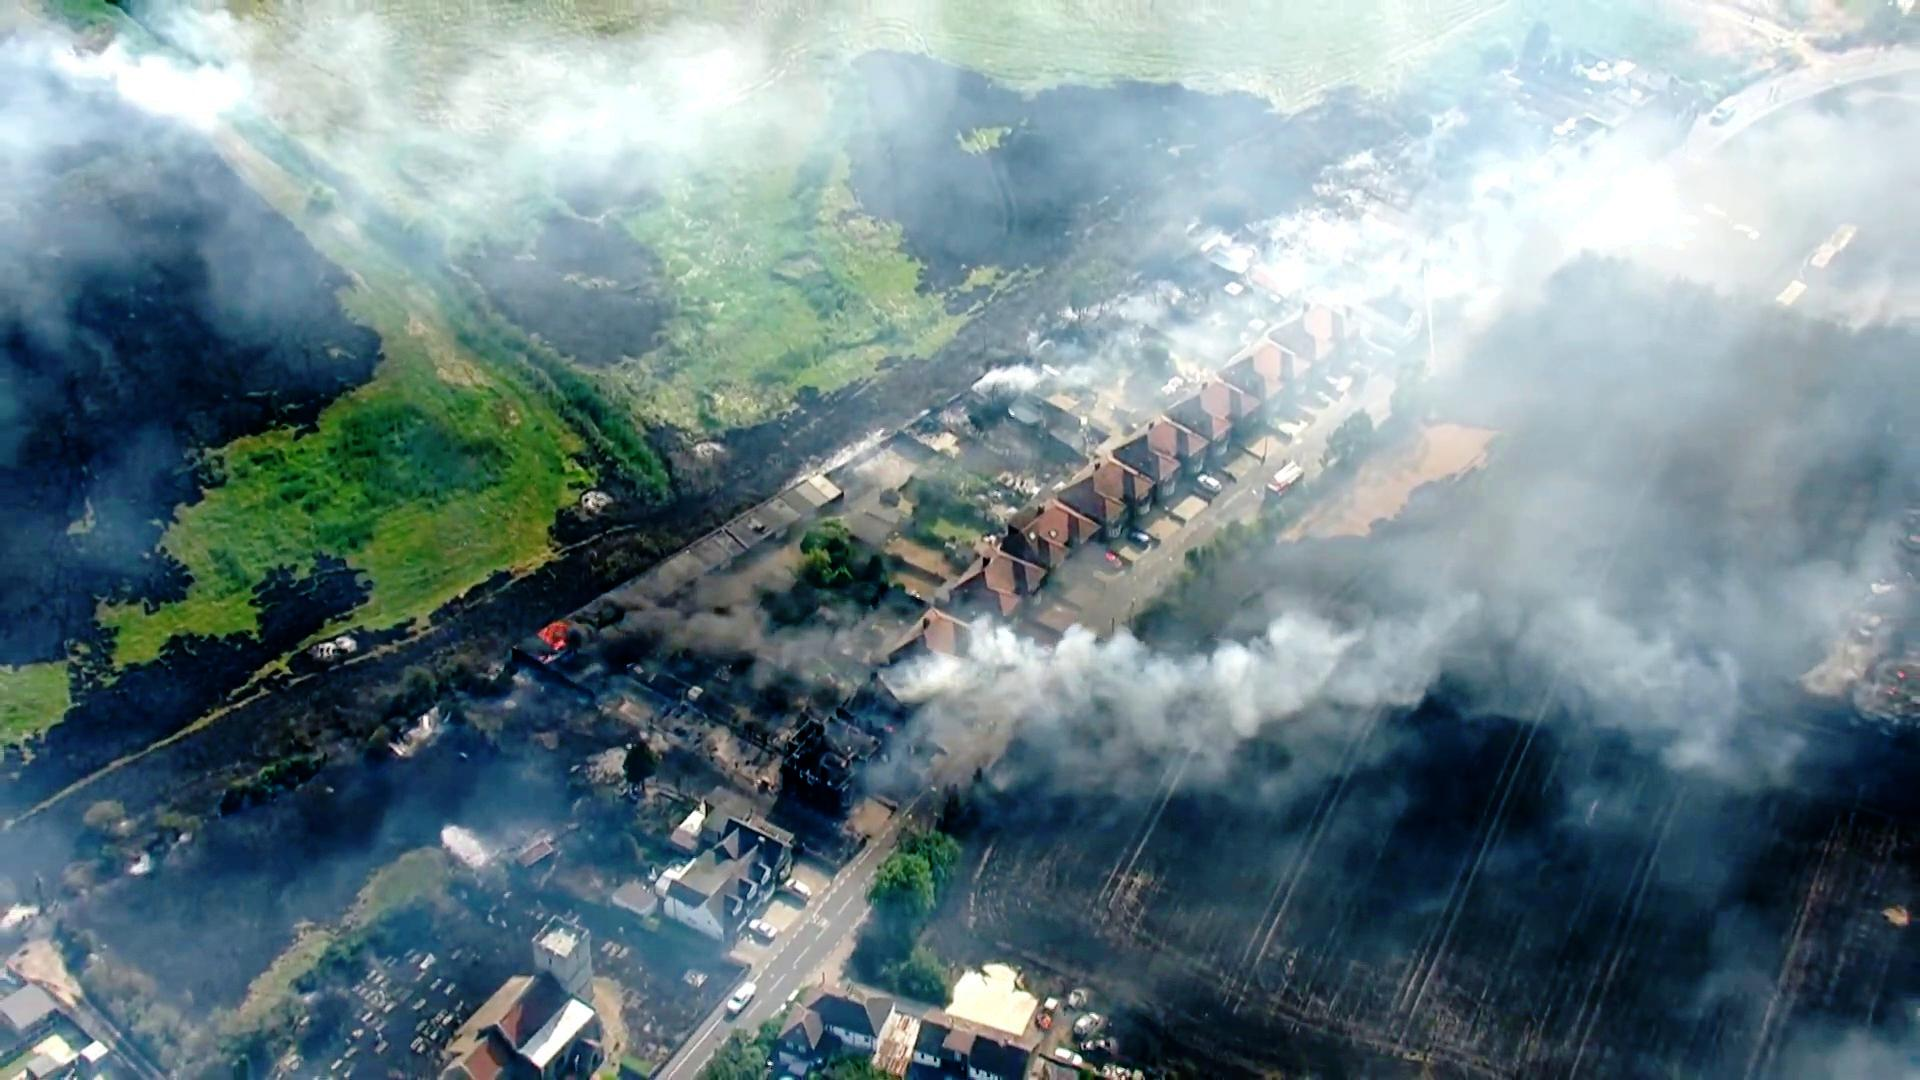smoke: (1004, 658, 1385, 758)
